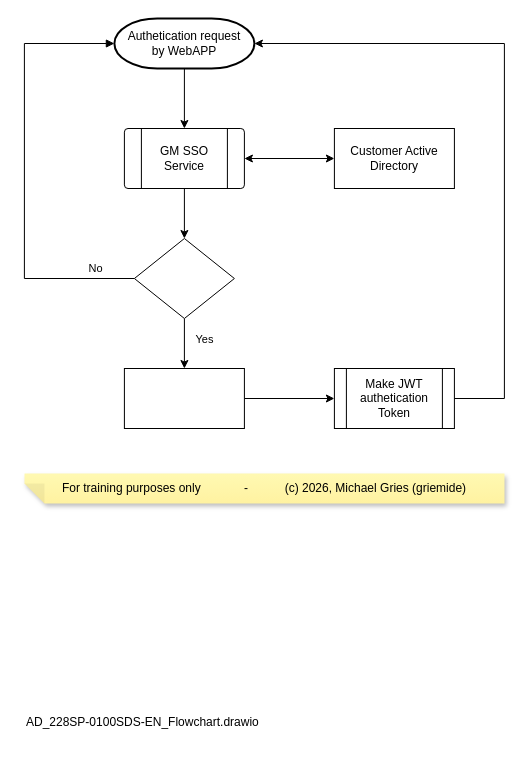
Image size: 530x765. Some labels were removed from this diagram. The centre of each missing label's shape, as x and y in pixels:
Get user groups and capabilities: (x=183, y=398)
Is authenticated ?: (x=183, y=278)
